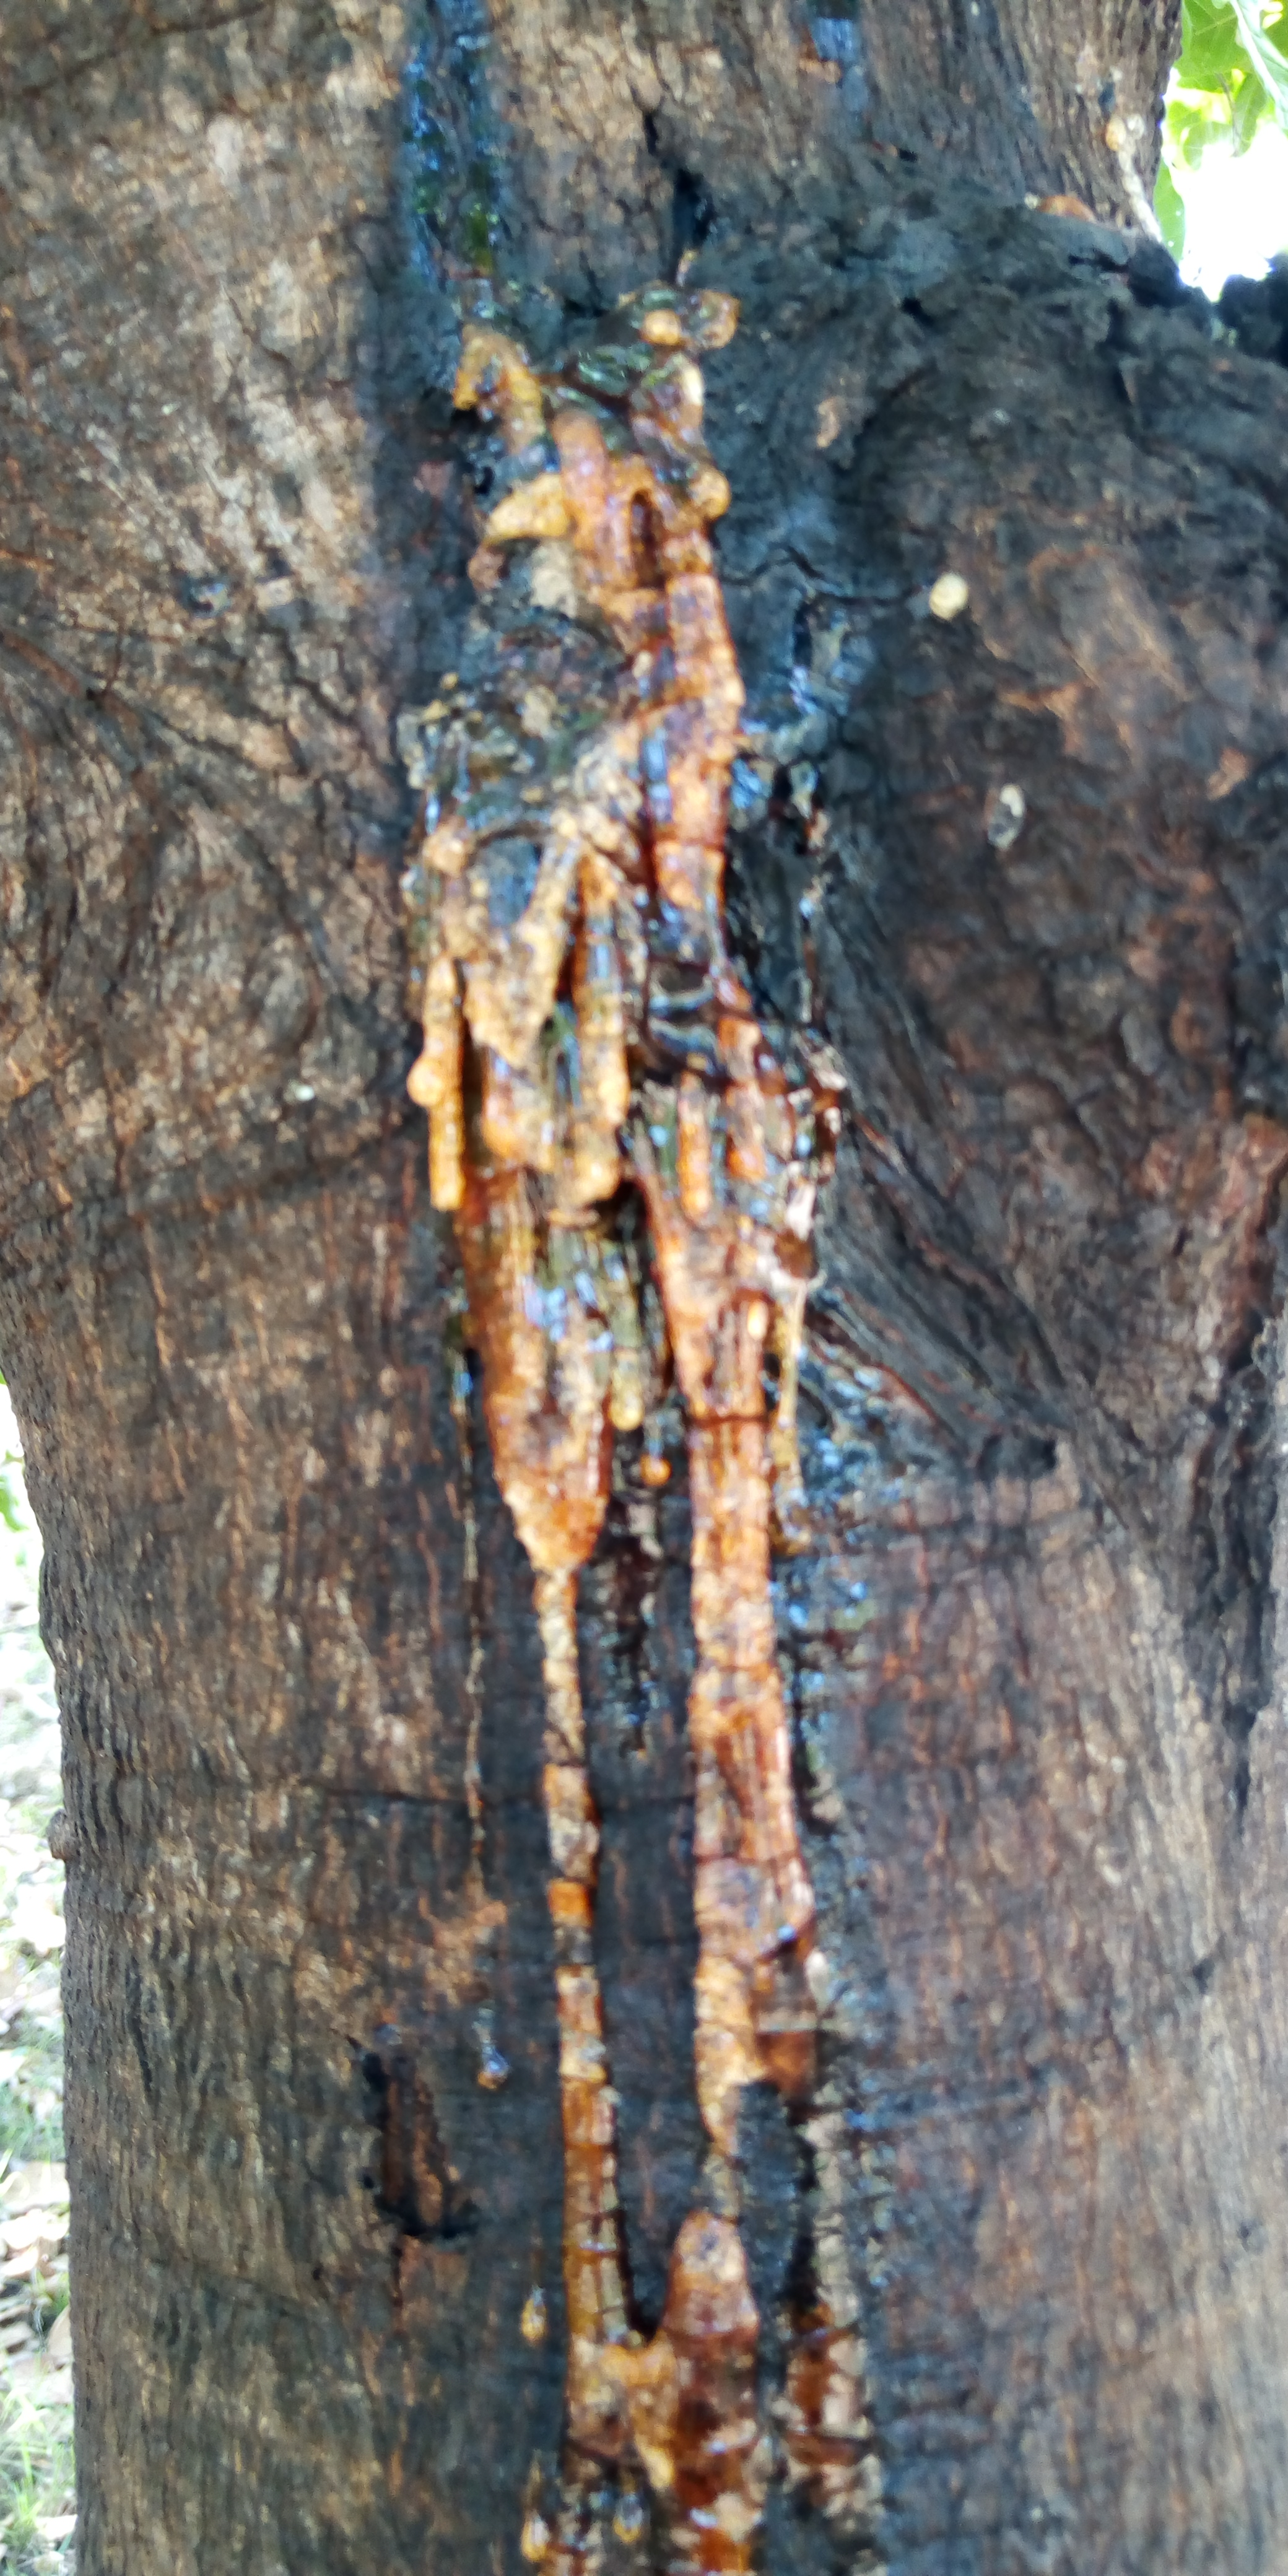Gommose: (355, 13, 890, 2576), (1002, 276, 1288, 516)
